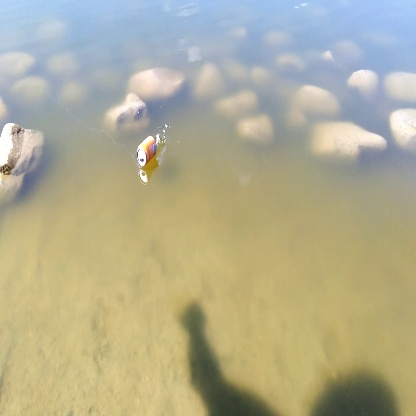bottle: (134, 131, 162, 171)
